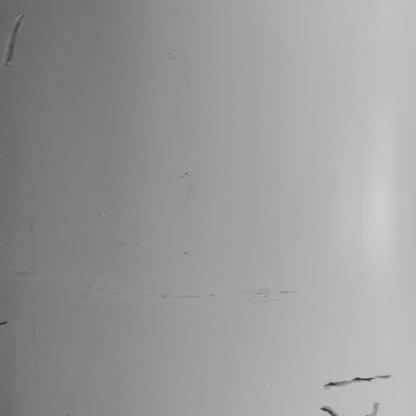fengxi: (319, 371, 389, 392), (364, 401, 382, 416), (320, 405, 339, 416)
sunshang: (8, 9, 25, 66)
